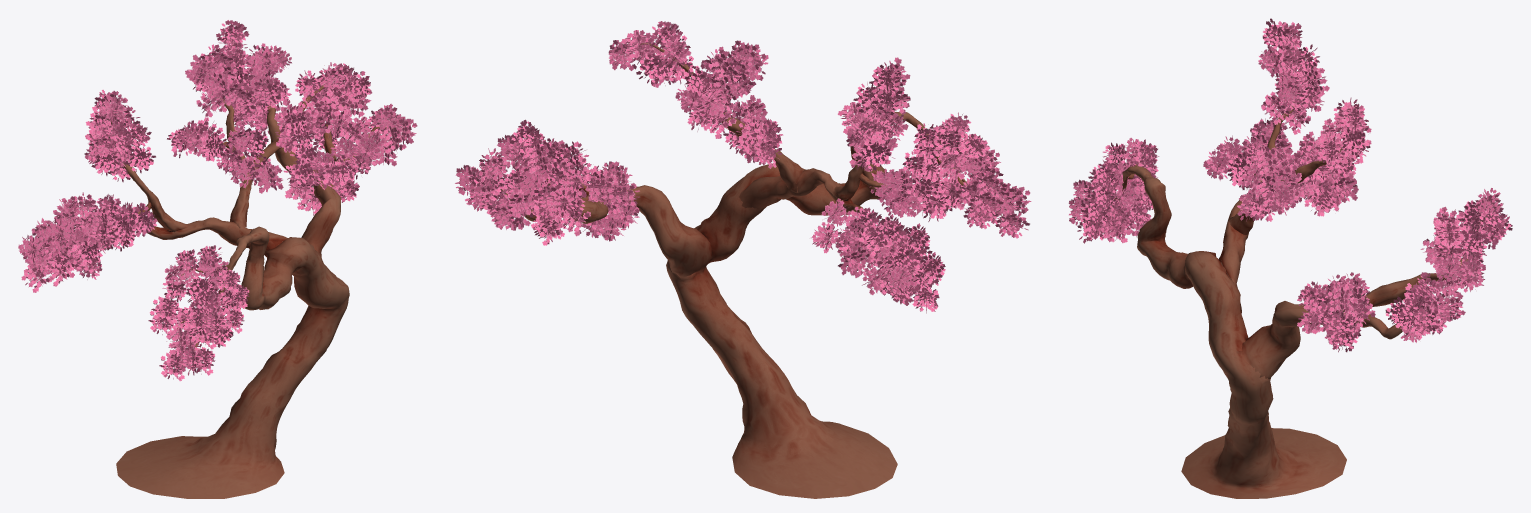
3 views of the same model, side by side, from view 1: azimuth 30°, elevation 25°; view 2: azimuth 150°, elevation 25°; view 3: azimuth 270°, elevation 25° (orthographic). The views are drawn at different scales.
Parts seen in each view (by area): view 1: Object_9, Object_10, Object_12, Object_11, Object_6, Object_7, Object_8, Object_2, Object_4; view 2: Object_9, Object_11, Object_12, Object_10, Object_6, Object_7, Object_8, Object_2; view 3: Object_9, Object_10, Object_12, Object_11, Object_6, Object_2, Object_7.
Boxes of the visible parts, x1,y1,x2,y2 form: Object_9: (116,226,349,498); Object_10: (18,45,406,344); Object_12: (21,20,319,381); Object_11: (31,44,417,375); Object_6: (301,106,393,281); Object_7: (71,217,287,257); Object_8: (230,79,332,228); Object_2: (213,44,317,173); Object_4: (108,120,292,232); Object_9: (666,112,1001,498); Object_11: (455,35,1031,298); Object_12: (522,46,1029,313); Object_10: (488,21,992,303); Object_6: (497,151,712,277); Object_7: (739,168,909,271); Object_8: (628,43,805,192); Object_2: (542,117,745,223); Object_9: (1115,166,1346,498); Object_10: (1088,118,1512,352); Object_12: (1073,18,1505,266); Object_11: (1068,21,1491,342); Object_6: (1234,301,1406,379); Object_2: (1295,131,1487,306); Object_7: (1218,195,1251,287).
Bounding box in the file's own units: 21.75 × 20.05 × 20.16.
Materials: 2 (2 with a texture image).
